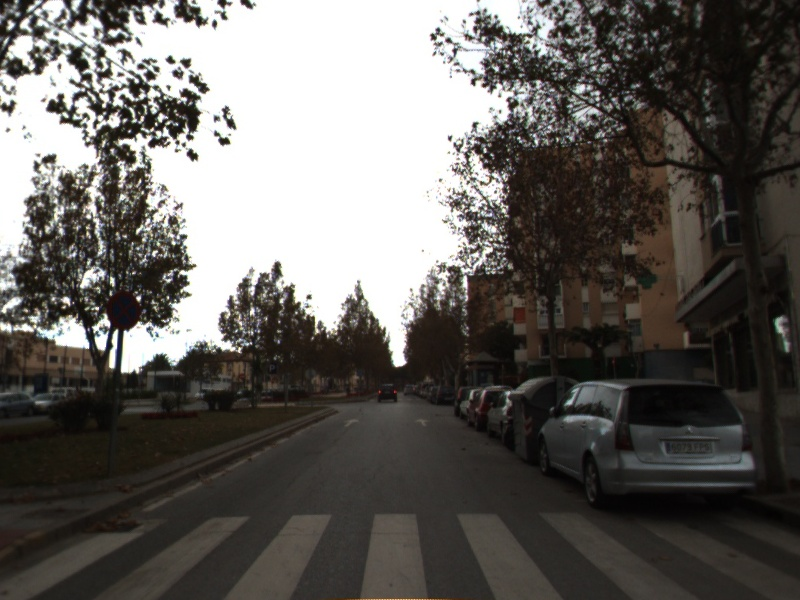STRAIGHT: (342, 417, 362, 429), (413, 417, 432, 428)
